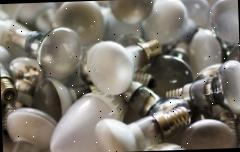lightbulb: (0, 0, 240, 152), (84, 40, 135, 97), (34, 25, 84, 80)
